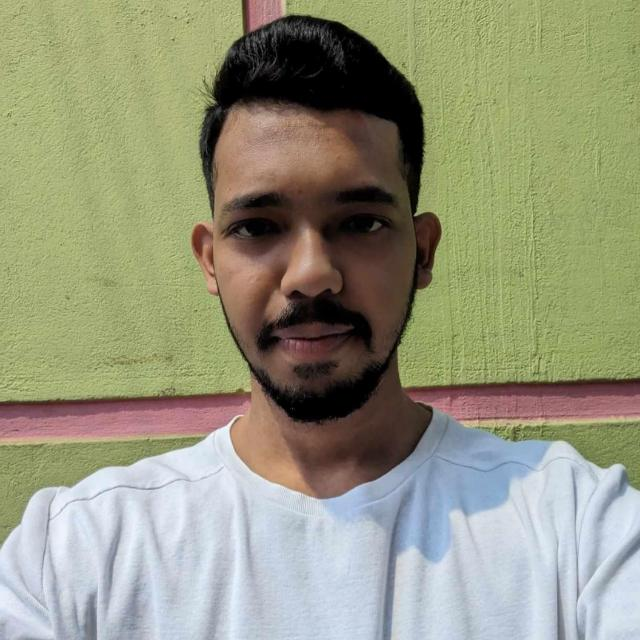Natural: (175, 118, 463, 445)
